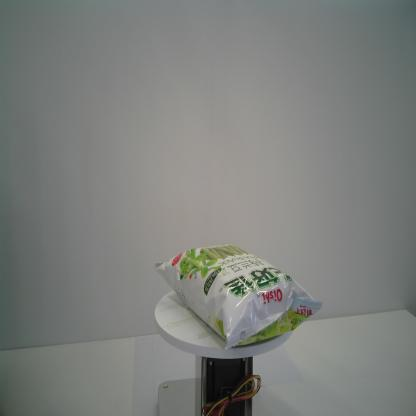Puffed Food: (153, 242, 324, 353)
